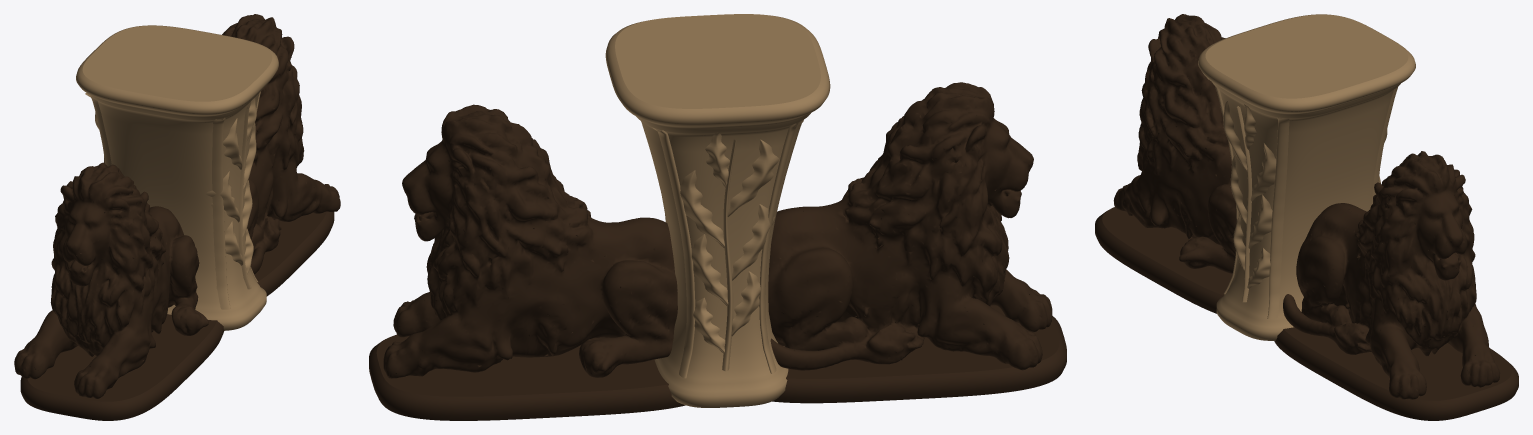
The model's file is crown.obj.
The picture shows the model from 3 angles, left to right: view 1: azimuth 30°, elevation 25°; view 2: azimuth 150°, elevation 25°; view 3: azimuth 270°, elevation 25°; orthographic projection. The views are drawn at different scales.
Parts seen in each view (by area): view 1: lion_1, pier_0, lion_-1, pier_2, pad_1_2, pad_1_0, relief_1_9, pad_-1_2, pad_-1_0, relief_1_0, relief_1_4, relief_1_6 (+4 smaller); view 2: lion_1, lion_-1, pier_0, pier_2, pad_-1_2, pad_-1_0, pad_1_0, pad_1_2, relief_-1_8, relief_-1_9, relief_-1_6, relief_-1_5 (+6 smaller); view 3: lion_-1, pier_0, lion_1, pier_2, pad_-1_0, pad_-1_2, pad_1_2, pad_1_0, relief_1_8, relief_1_0, relief_1_5, relief_1_3 (+5 smaller).
Boxes of the visible parts, <box> form: lion_1: <box>14,162,208,398</box>; pier_0: <box>76,25,278,330</box>; lion_-1: <box>222,14,340,274</box>; pier_2: <box>82,25,272,101</box>; pad_1_2: <box>27,314,216,401</box>; pad_1_0: <box>20,320,223,420</box>; relief_1_9: <box>212,117,230,309</box>; pad_-1_2: <box>252,211,326,281</box>; pad_-1_0: <box>257,211,334,296</box>; relief_1_0: <box>238,107,251,289</box>; relief_1_4: <box>205,171,239,222</box>; relief_1_6: <box>223,118,242,169</box>; lion_1: <box>768,82,1052,370</box>; lion_-1: <box>383,104,677,378</box>; pier_0: <box>605,15,830,407</box>; pier_2: <box>615,14,820,108</box>; pad_-1_2: <box>376,334,668,396</box>; pad_-1_0: <box>369,338,685,420</box>; pad_1_0: <box>772,316,1066,403</box>; pad_1_2: <box>784,305,1059,378</box>; relief_-1_8: <box>652,127,695,378</box>; relief_-1_9: <box>759,120,803,373</box>; relief_-1_6: <box>727,139,779,216</box>; relief_-1_5: <box>680,170,724,247</box>; lion_-1: <box>1283,151,1500,399</box>; pier_0: <box>1198,14,1415,340</box>; lion_1: <box>1113,14,1236,273</box>; pier_2: <box>1205,14,1408,98</box>; pad_-1_0: <box>1274,329,1518,420</box>; pad_-1_2: <box>1284,327,1511,400</box>; pad_1_2: <box>1102,207,1232,295</box>; pad_1_0: <box>1095,210,1223,313</box>; relief_1_8: <box>1267,117,1289,318</box>; relief_1_0: <box>1236,106,1251,302</box>; relief_1_5: <box>1250,143,1276,201</box>; relief_1_3: <box>1248,194,1272,248</box>.
Bounding box in the file's own units: 61.27 × 33.98 × 50.73.
